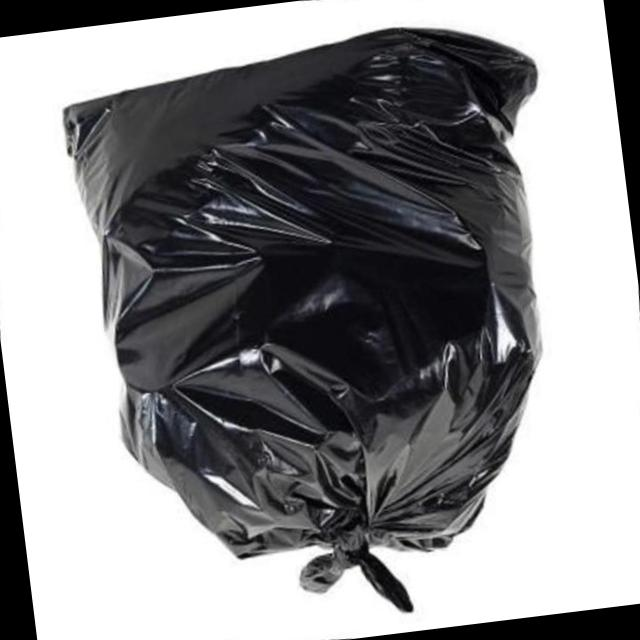KantongPlastik: (54, 11, 603, 640)
